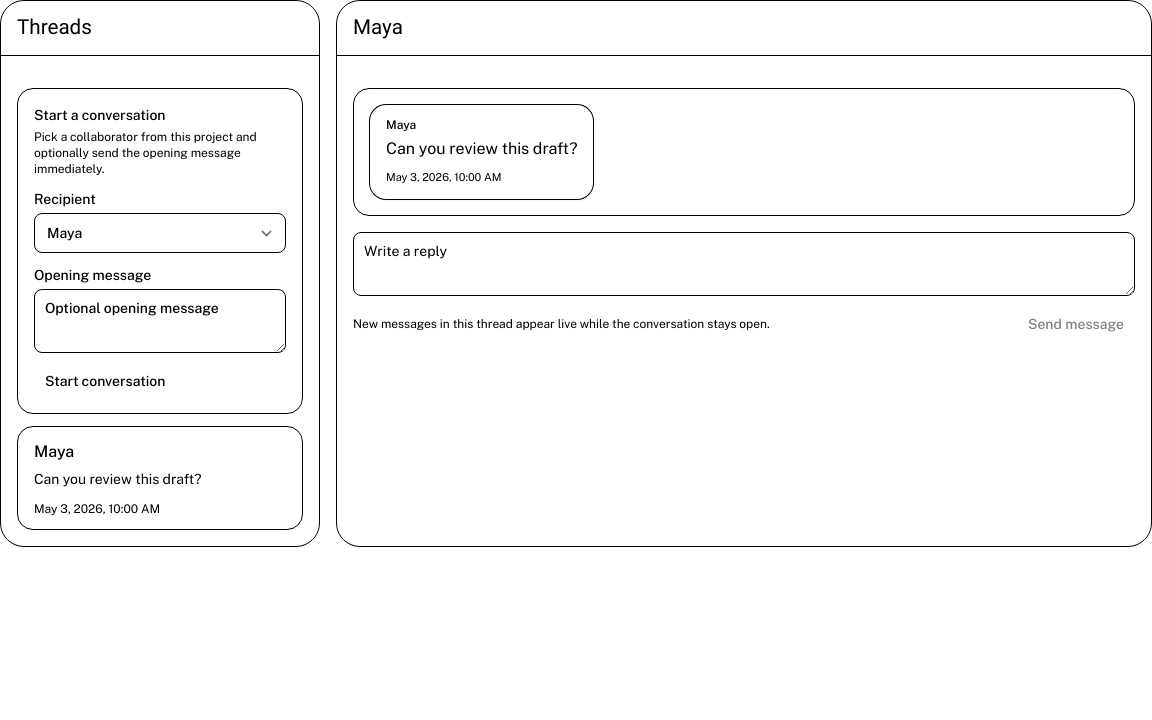
Test: MessagesWorkspace › starts a new conversation with a selected collaborator
This screenshot has width=1152, height=720.
Type "Starting thread" into the text box labelled "Opening message" at [160, 321], box 34,289 -> 286,353
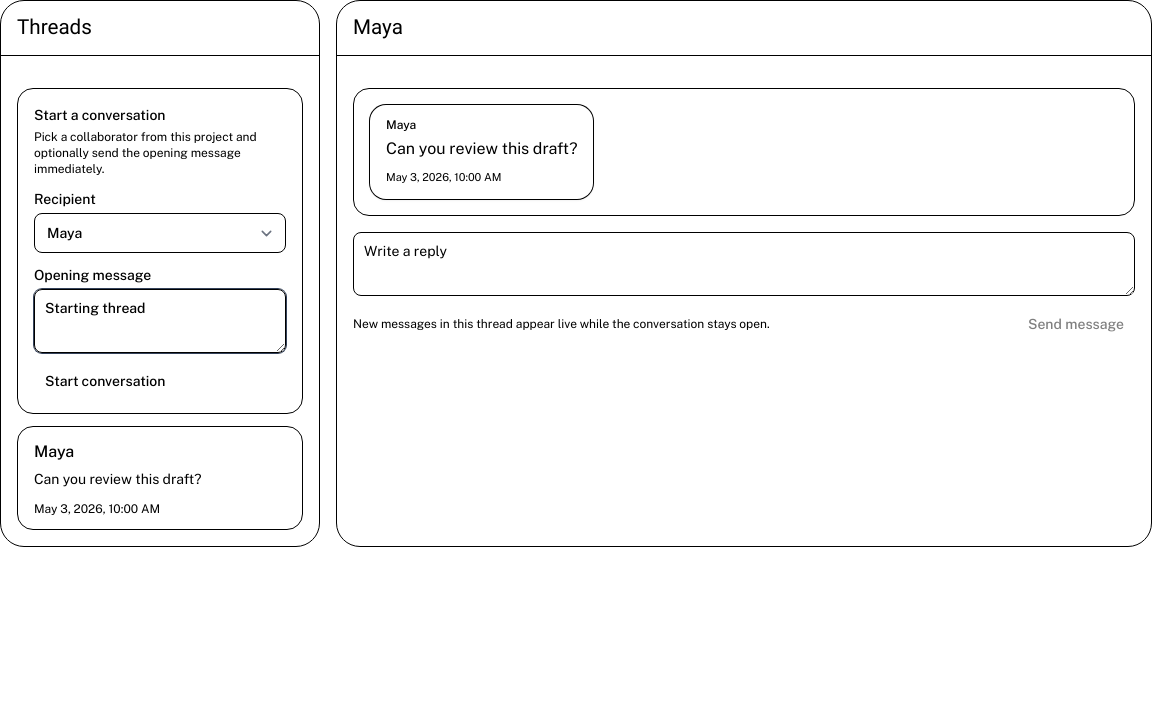
Click the button "Start conversation" at [105, 381], box 34,365 -> 176,397
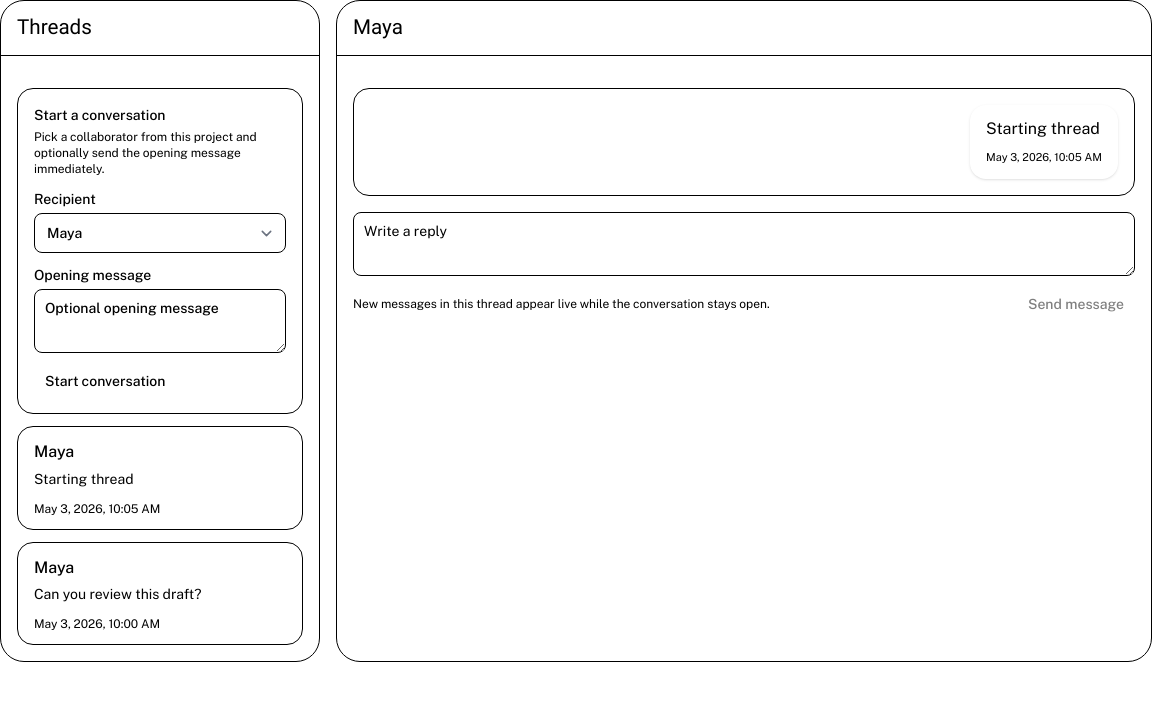
Now the text "Starting thread" is shown 2 times, box 34,469 -> 134,489; 986,117 -> 1102,141
